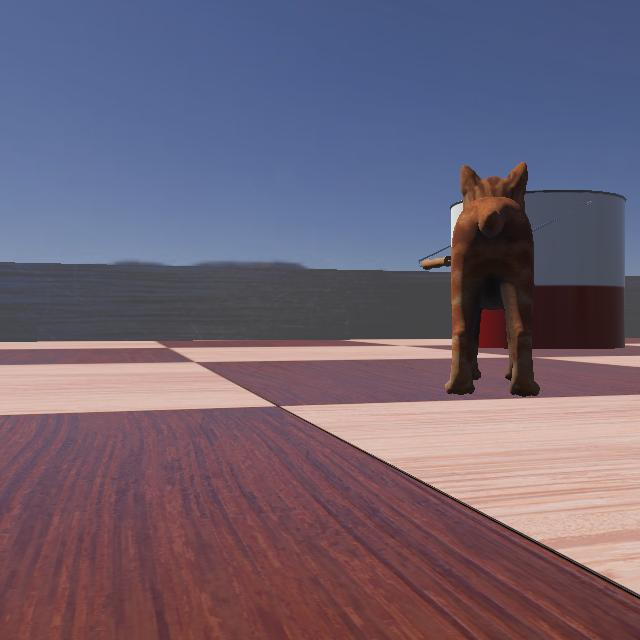cat: (406, 46, 640, 422), (406, 46, 640, 422)
paint-bucket: (409, 183, 639, 351)
